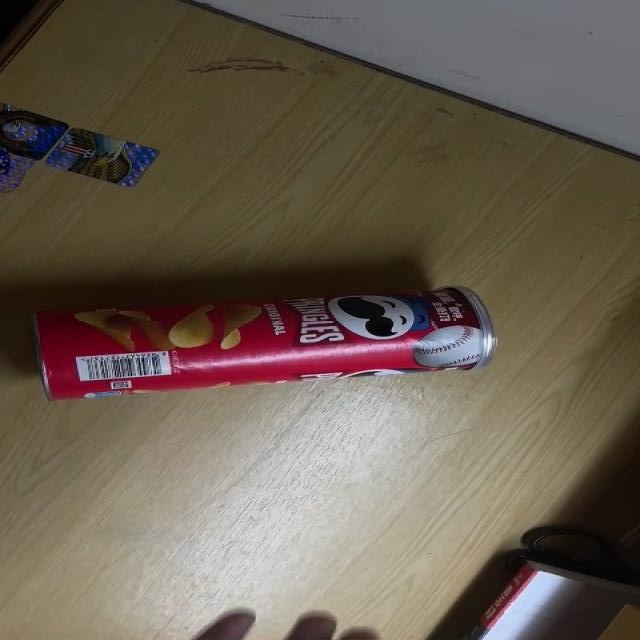Pringles: (32, 286, 498, 402)
